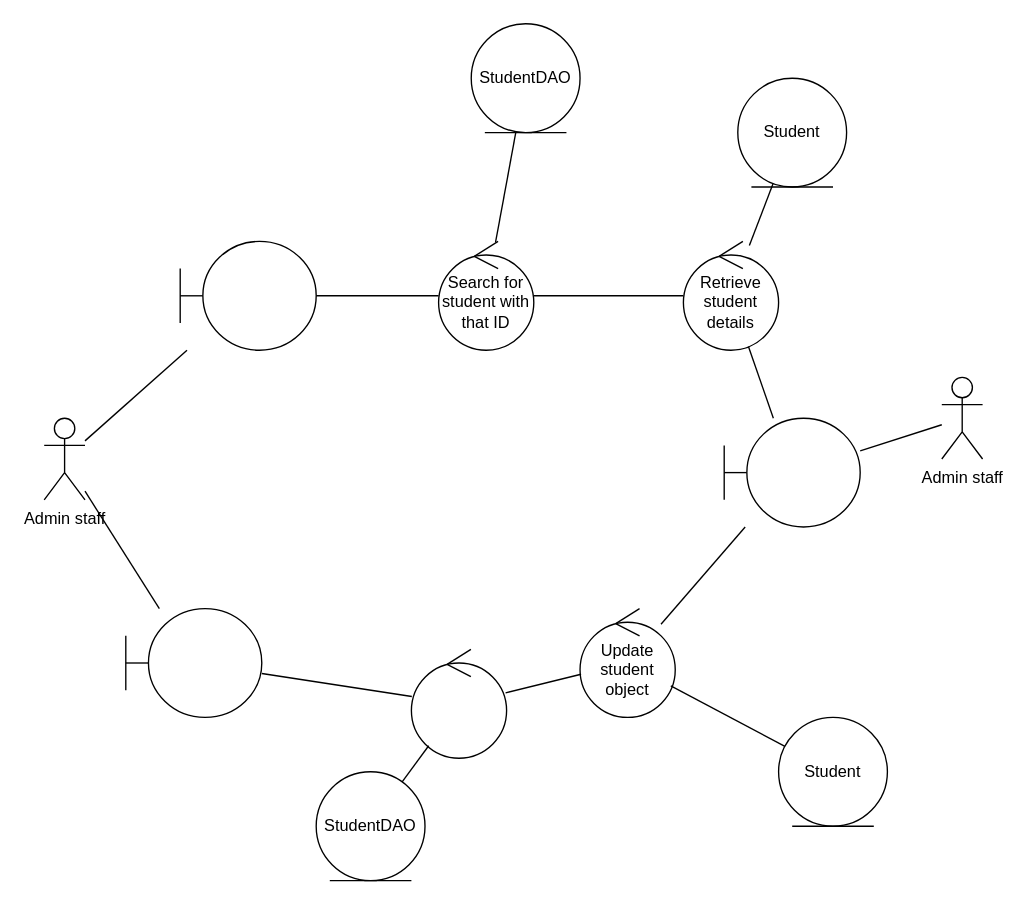
The diagram is 1025 pixels wide and 904 high, and some of its shapes have lost their labels. The shapes that lost their labels are listed below. From the top down, each one's box as (x1, y1, x2, y2) in pixels, then its label:
(179, 240, 316, 350): UI to enter student ID
(723, 417, 860, 527): UI to update student details
(124, 607, 262, 717): Confirmation dialog
(410, 648, 507, 758): Updated student saved in database
